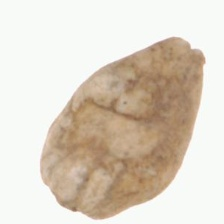L1: (52, 186, 100, 221), (171, 35, 206, 65)
L2: (39, 36, 205, 220)
